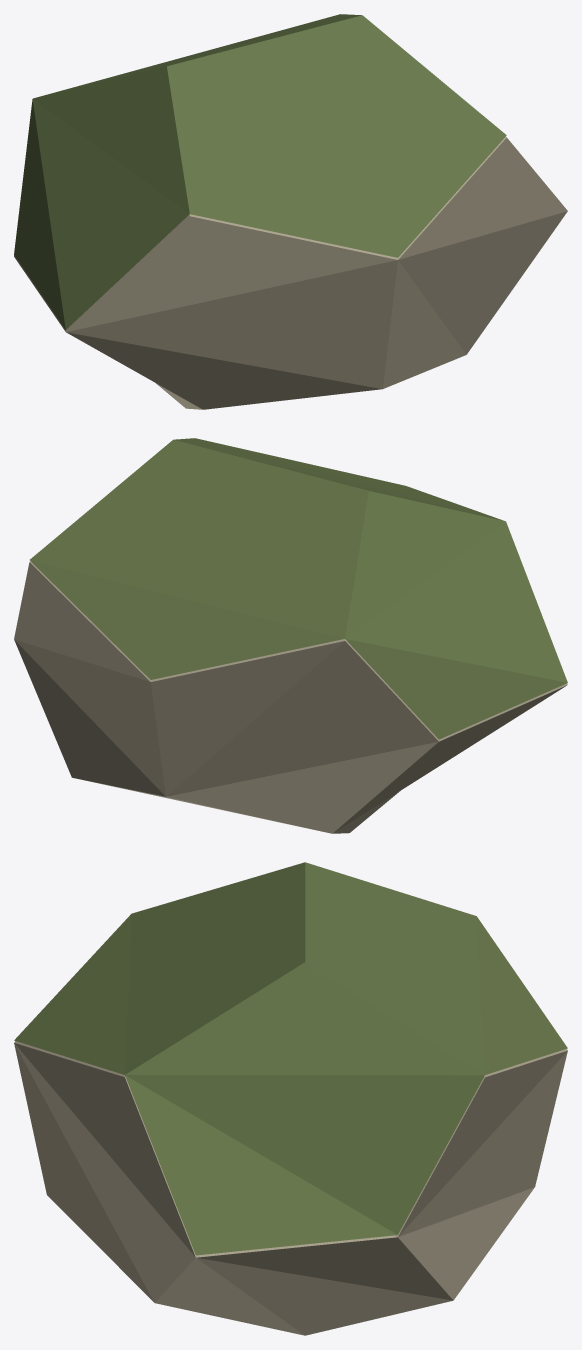
The model's file is rock_moss.glb.
The picture shows the model from 3 angles, top to bottom: view 1: azimuth 30°, elevation 25°; view 2: azimuth 150°, elevation 25°; view 3: azimuth 270°, elevation 25°; orthographic projection. The views are drawn at different scales.
Parts seen in each view (by area): view 1: Rock-moss; view 2: Rock-moss; view 3: Rock-moss.
Boxes of the visible parts, x1,y1,x2,y2 form: Rock-moss: [14, 14, 567, 409]; Rock-moss: [14, 438, 567, 833]; Rock-moss: [14, 862, 567, 1335].
Bounding box in the file's own units: 2.02 × 1.37 × 1.79.
